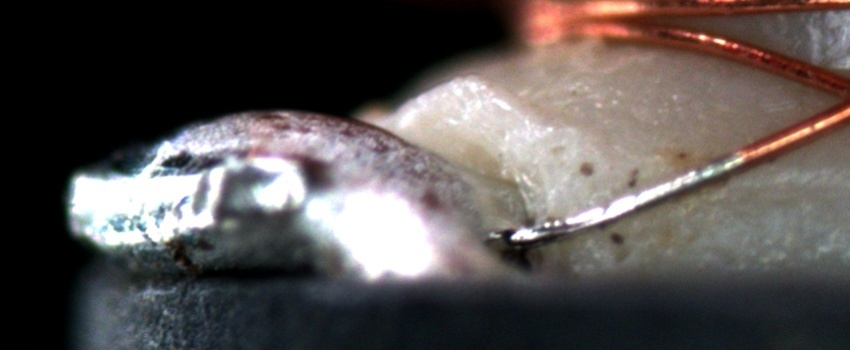DL: (734, 161, 849, 220)
TS: (496, 153, 747, 251)
